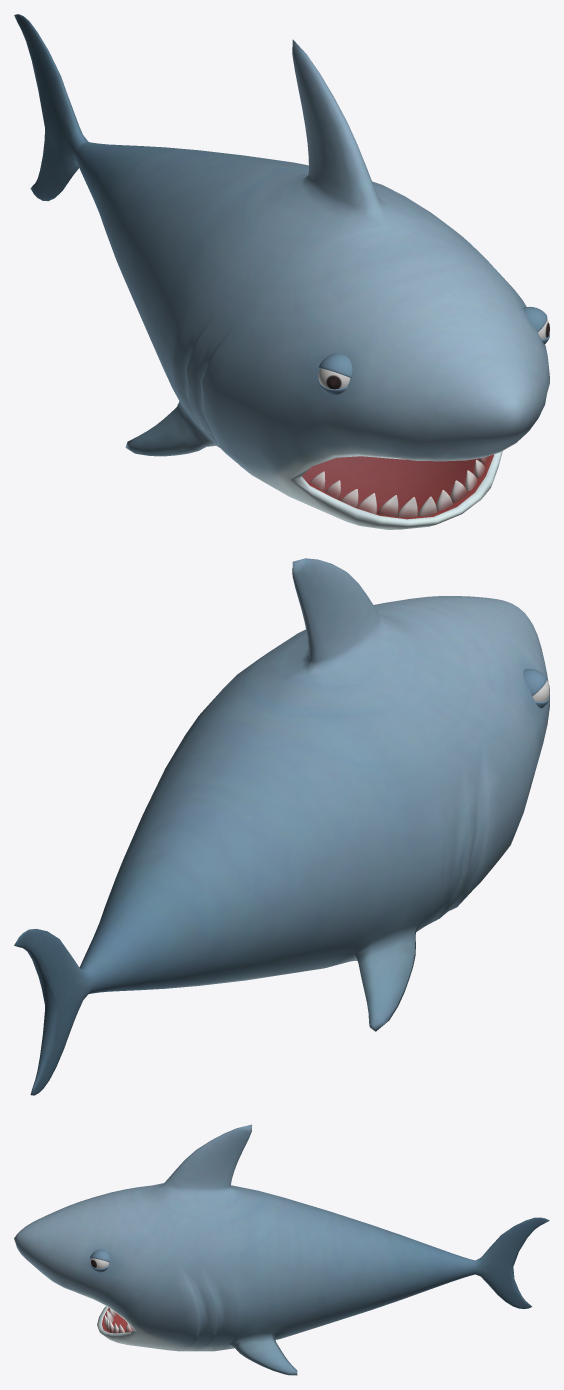
File: shark.obj
The picture shows the model from 3 angles, top to bottom: view 1: azimuth 30°, elevation 25°; view 2: azimuth 150°, elevation 25°; view 3: azimuth 270°, elevation 25°; orthographic projection. The views are drawn at different scales.
Parts seen in each view (by area): view 1: shark_body, shark_teeth; view 2: shark_body; view 3: shark_body, shark_teeth.
Part boxes in pixels (<box>): shark_body: <box>14,14,549,529</box>; shark_teeth: <box>310,457,487,517</box>; shark_body: <box>14,558,549,1095</box>; shark_body: <box>14,1124,549,1375</box>; shark_teeth: <box>104,1308,132,1333</box>.
Bounding box in the file's own units: 140 × 190 × 421.
Materials: 1 (1 with a texture image).
